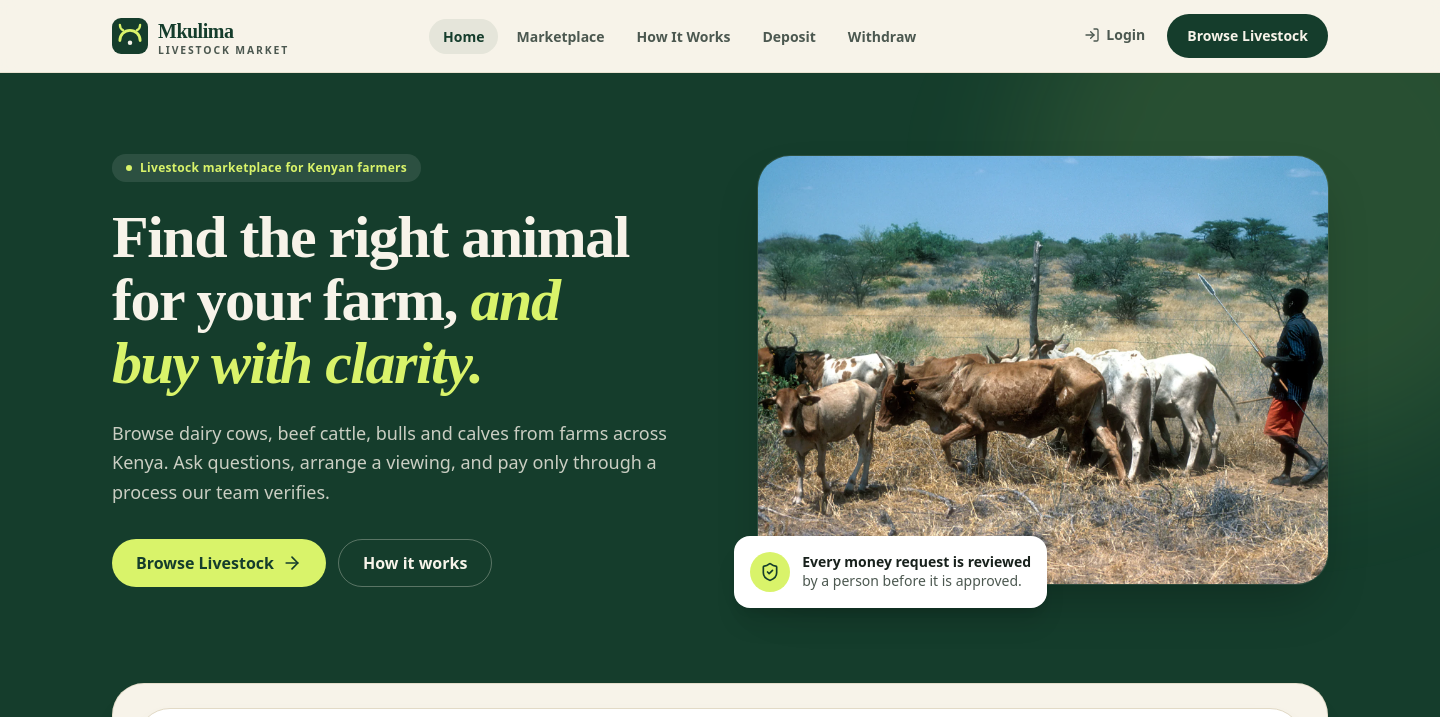
Test: routing › navigates with the main navigation
The width and height of the screenshot is (1440, 717).
Click the link "How It Works" at [684, 36], box [637, 27, 730, 46]
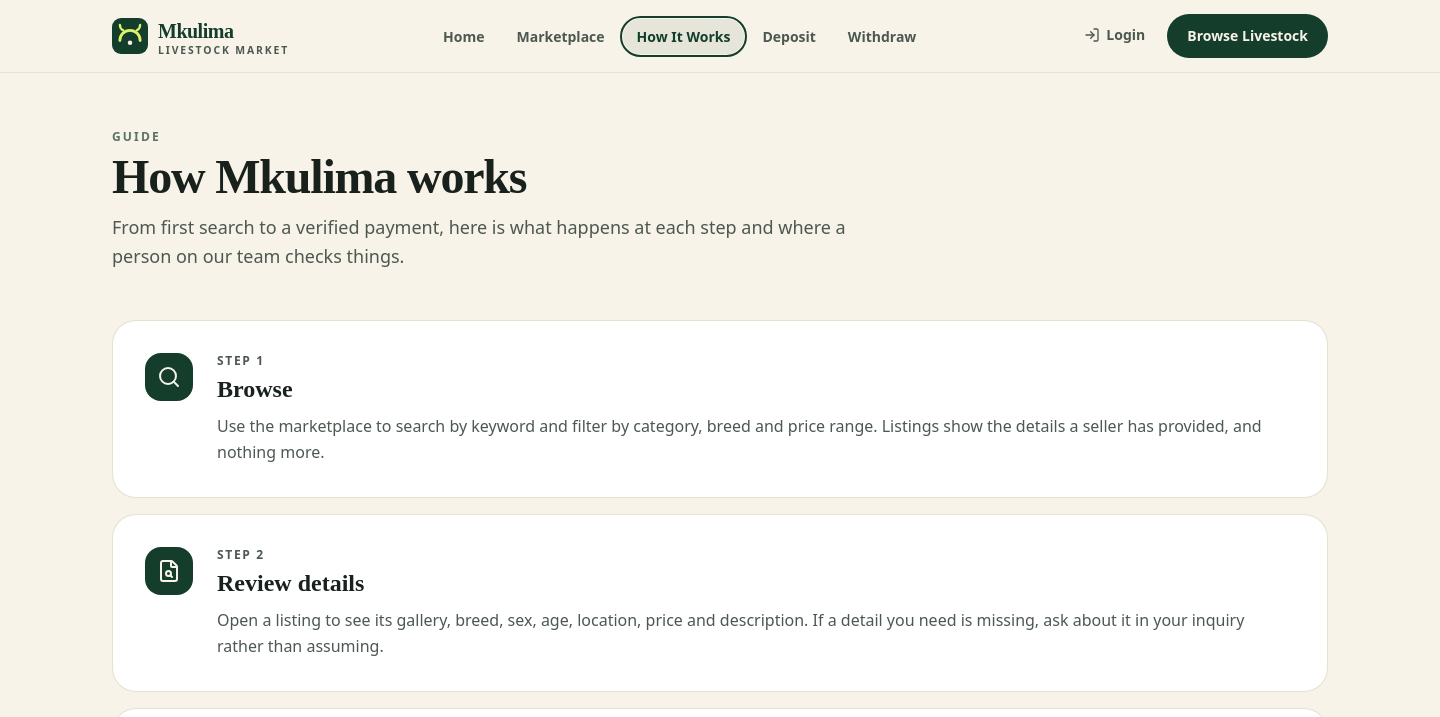
Check: the heading "How Mkulima works" is shown, box [112, 150, 526, 203]
